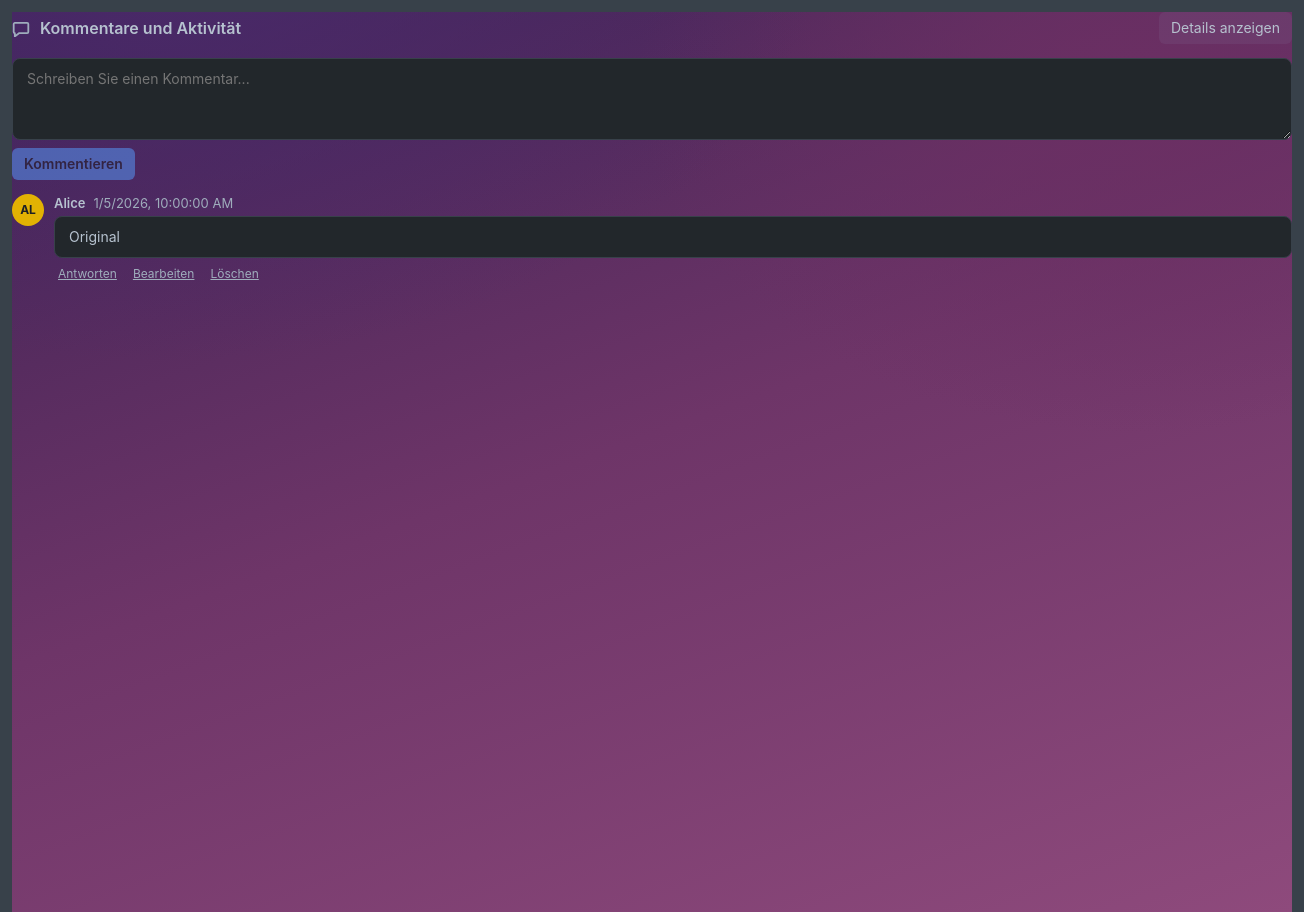
CardComments › keeps the edit open with the typed text when an edit fails
This screenshot has width=1304, height=912.
Click the button "Bearbeiten".
click(164, 274)  # box [129,262,198,286]
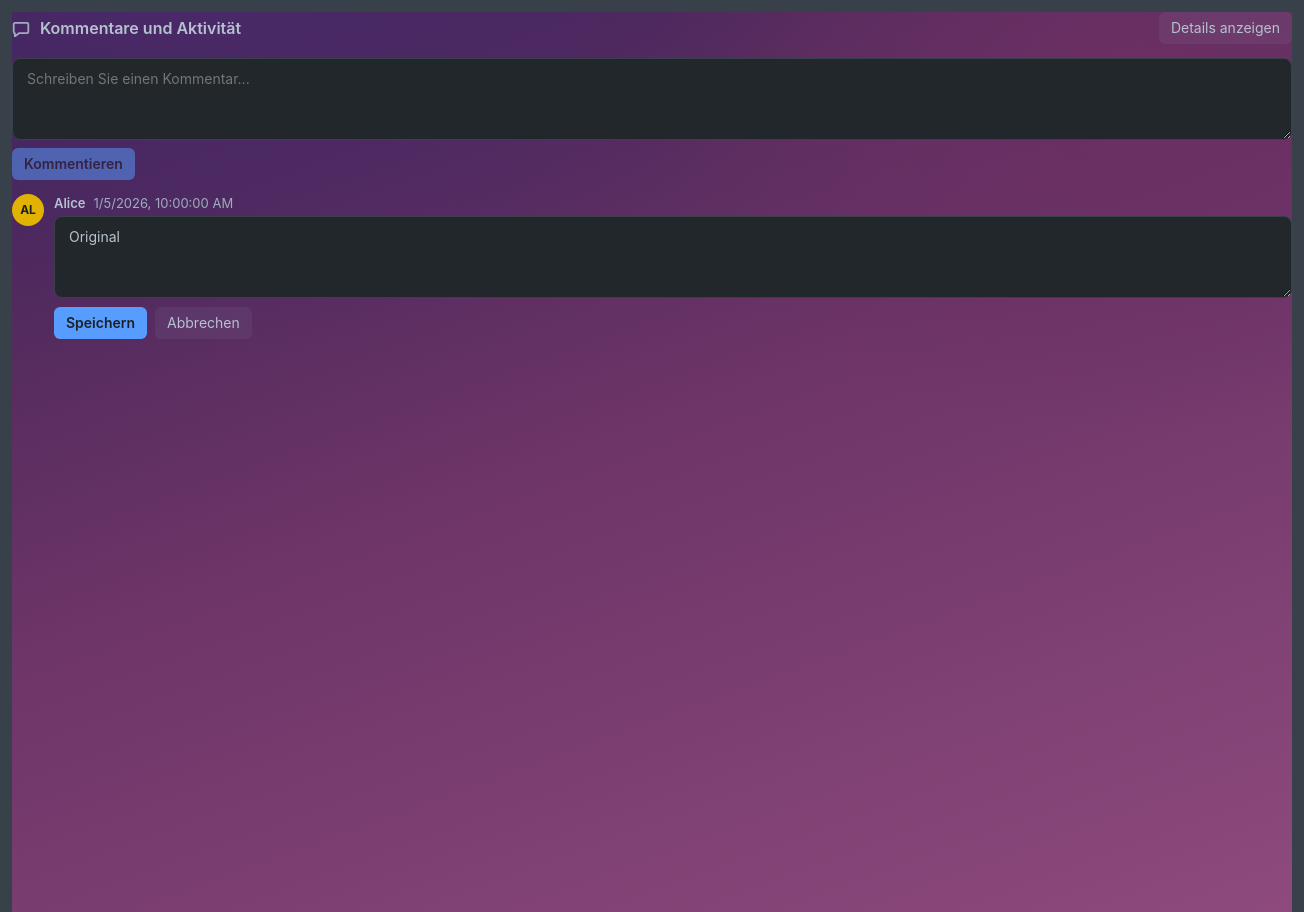
Replace the text in the text box named "Kommentar bearbeiten" with "Rewritten" at (673, 257), box [54,216,1292,298]
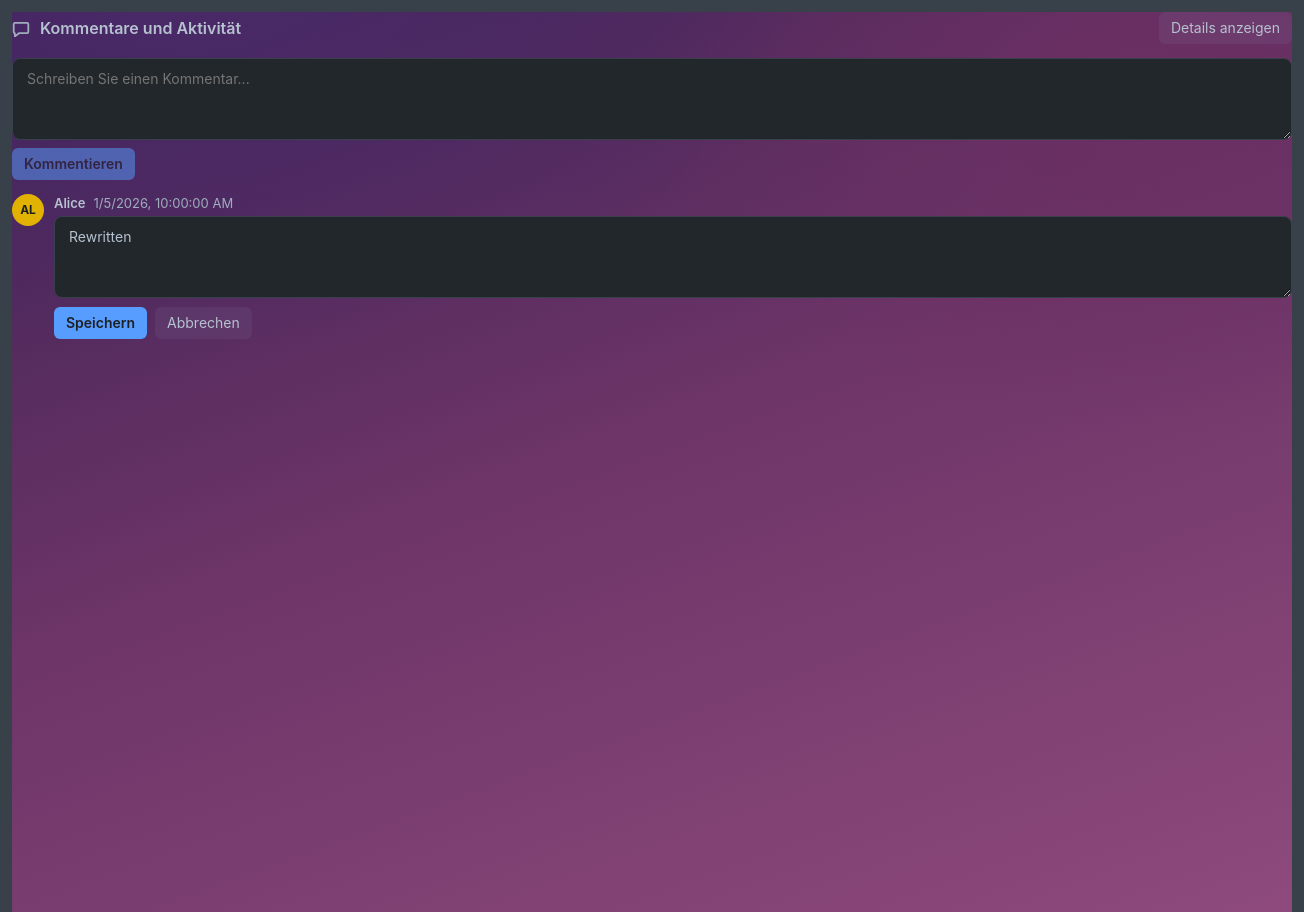
Click the button "Speichern".
click(101, 323)  # box [54,307,147,339]
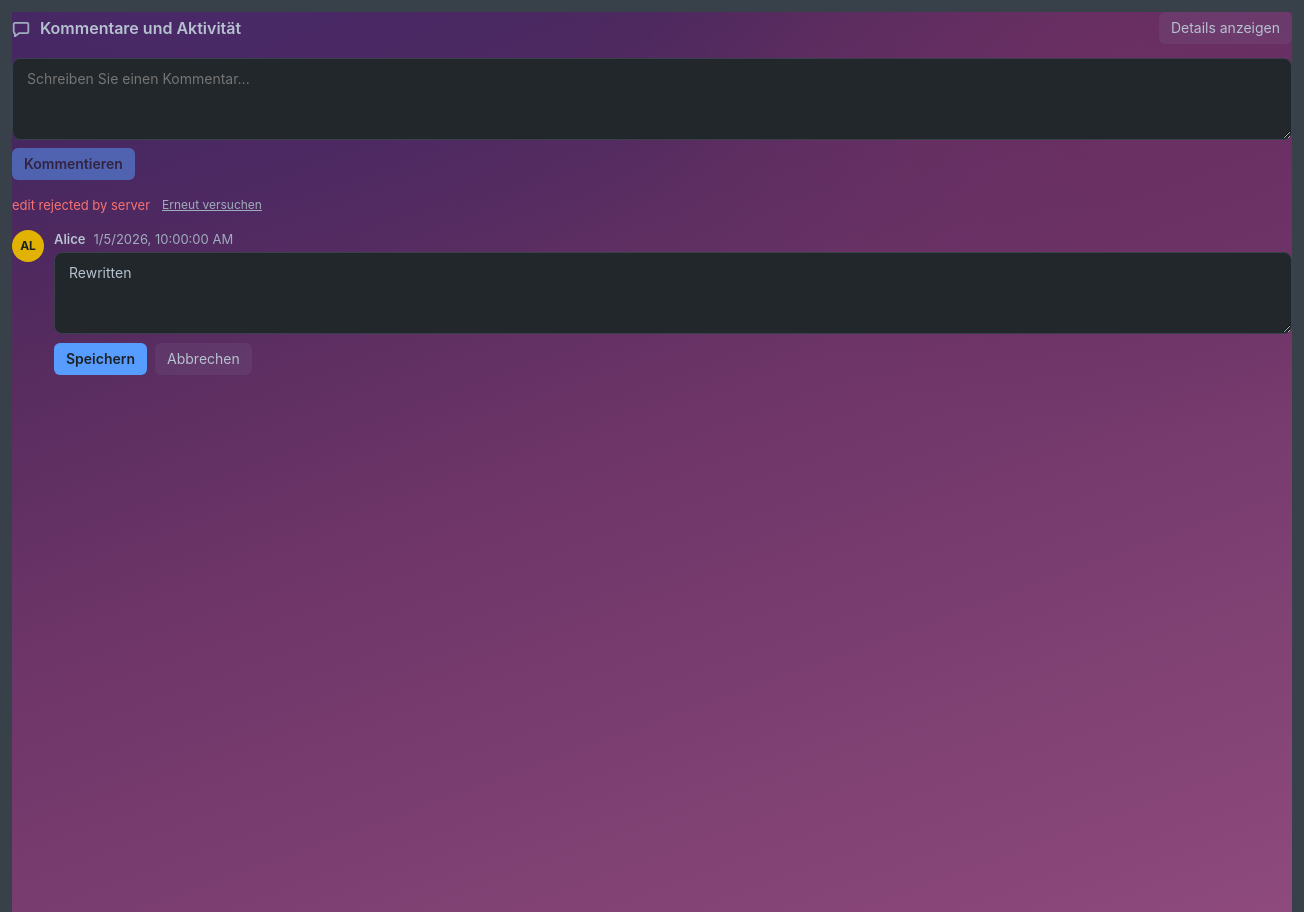
Check: the message shows "edit rejected by server", box [12,197,150,213]
